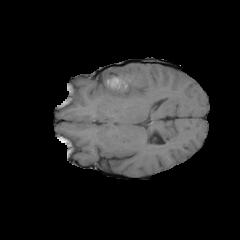glioma: (102, 69, 144, 121)
